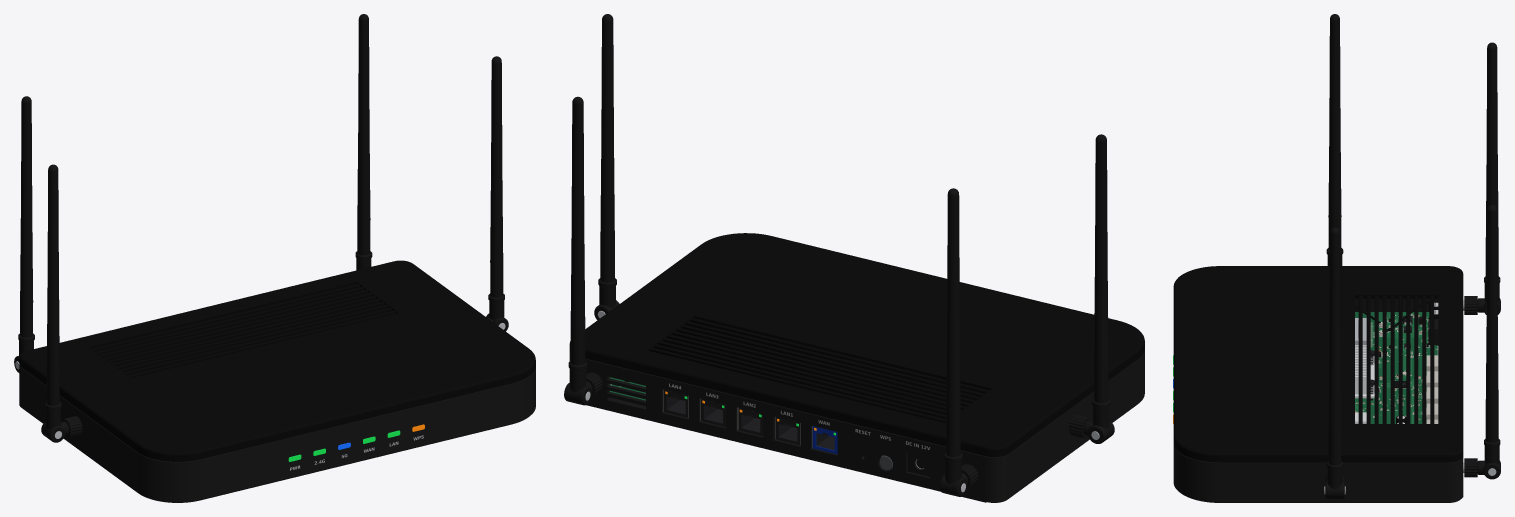
The model's file is router.glb.
The picture shows the model from 3 angles, left to right: view 1: azimuth 30°, elevation 25°; view 2: azimuth 150°, elevation 25°; view 3: azimuth 270°, elevation 25°; orthographic projection. The views are drawn at different scales.
Visible parts, largest first — view 1: Enclosure_Lid, Enclosure_Base, Antenna_3, Antenna_4, Antenna_1, Antenna_2; view 2: Enclosure_Lid, Rear_Panel_IO, Enclosure_Base, Antenna_3, Antenna_1, Antenna_2, Antenna_4, Ethernet_Magnetics_Jacks; view 3: Enclosure_Lid, Enclosure_Base, Antenna_2, Motherboard_PCB, Antenna_4, Antenna_3, Antenna_1, Ethernet_Magnetics_Jacks, SoC_Heatsink.
Boxes of the visible parts, left/top/right/bottom form: Enclosure_Lid: left=19, top=260, right=535, bottom=461; Enclosure_Base: left=19, top=365, right=535, bottom=502; Antenna_3: left=41, top=164, right=82, bottom=442; Antenna_4: left=486, top=56, right=508, bottom=331; Antenna_1: left=14, top=96, right=34, bottom=372; Antenna_2: left=355, top=14, right=372, bottom=270; Enclosure_Lid: left=569, top=233, right=1144, bottom=457; Rear_Panel_IO: left=585, top=358, right=986, bottom=502; Enclosure_Base: left=569, top=349, right=1144, bottom=502; Antenna_3: left=1068, top=134, right=1114, bottom=443; Antenna_1: left=939, top=188, right=978, bottom=496; Antenna_2: left=564, top=96, right=602, bottom=405; Antenna_4: left=594, top=14, right=619, bottom=320; Ethernet_Magnetics_Jacks: left=663, top=389, right=929, bottom=476; Enclosure_Lid: left=1173, top=266, right=1463, bottom=462; Enclosure_Base: left=1173, top=298, right=1463, bottom=502; Antenna_2: left=1464, top=204, right=1500, bottom=479; Motherboard_PCB: left=1355, top=312, right=1438, bottom=423; Antenna_4: left=1324, top=227, right=1345, bottom=498; Antenna_3: left=1326, top=14, right=1343, bottom=265; Antenna_1: left=1464, top=42, right=1500, bottom=314; Ethernet_Magnetics_Jacks: left=1426, top=319, right=1438, bottom=423; SoC_Heatsink: left=1355, top=345, right=1374, bottom=400.
Bounding box in the file's own units: 0.3156 × 0.1951 × 0.1981.
37 materials, 3 textured.
